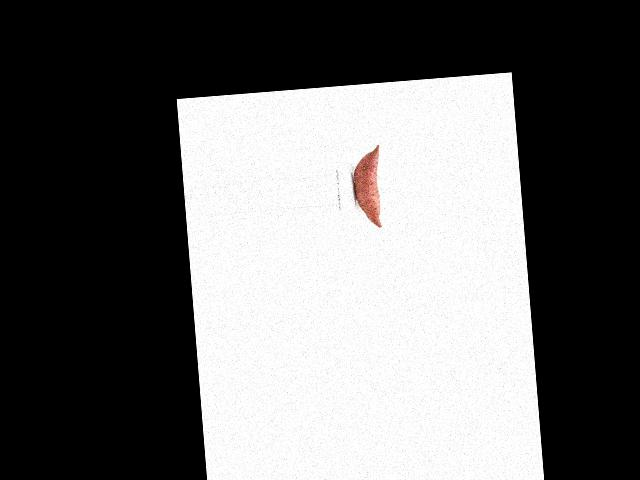sweet_potato: (350, 143, 390, 230)
